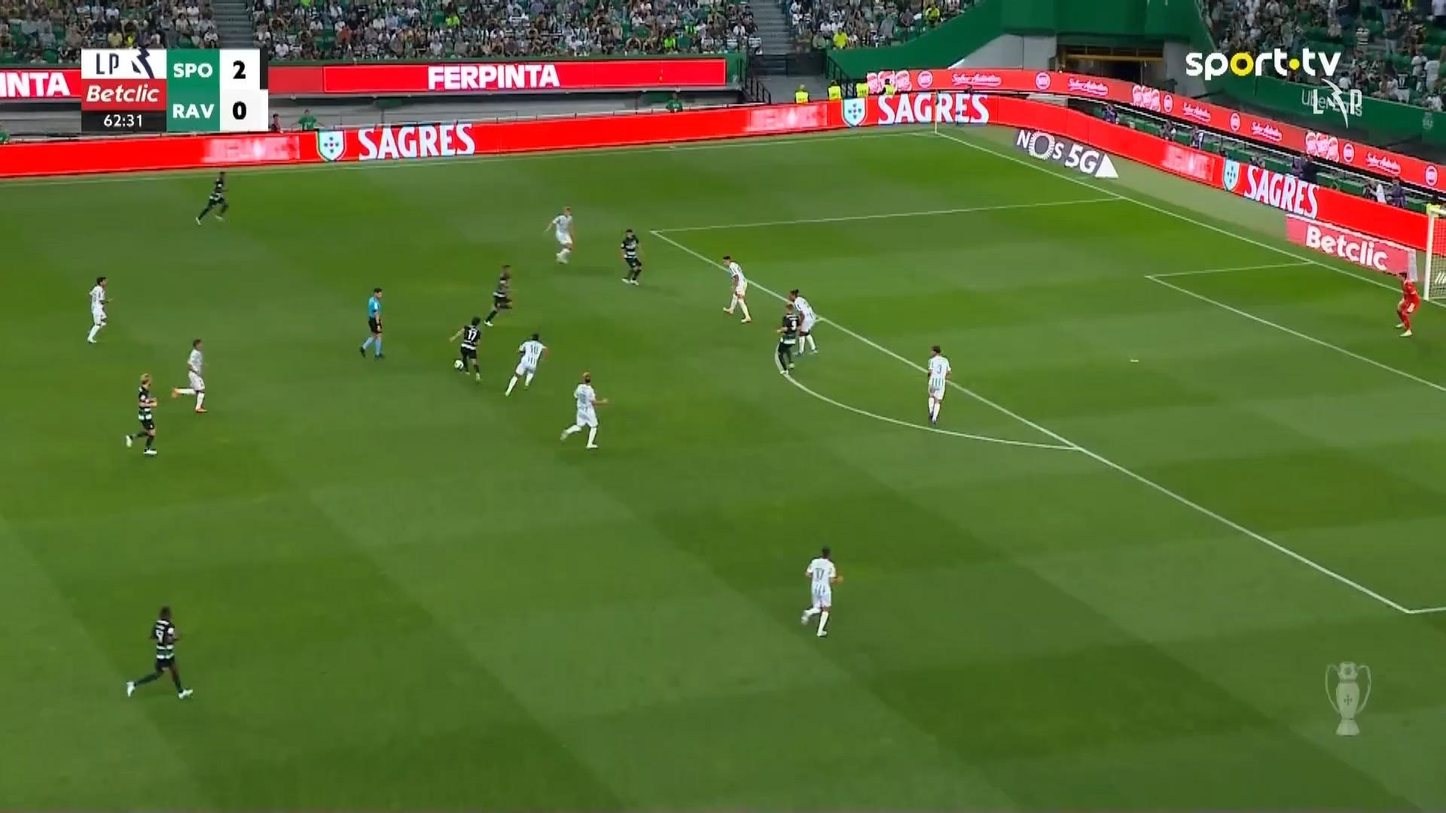ball: (453, 359, 462, 370)
goalkeeper: (1393, 270, 1420, 336)
player: (124, 605, 193, 699), (800, 546, 843, 637), (559, 371, 609, 449), (503, 332, 548, 397), (171, 337, 208, 413), (124, 373, 158, 455), (448, 315, 482, 382), (720, 254, 752, 324), (925, 344, 951, 425), (788, 288, 819, 354), (194, 170, 229, 225), (484, 263, 514, 327), (774, 302, 801, 373), (543, 205, 574, 264), (86, 275, 111, 344), (619, 227, 642, 285)
referee: (358, 287, 385, 359)
